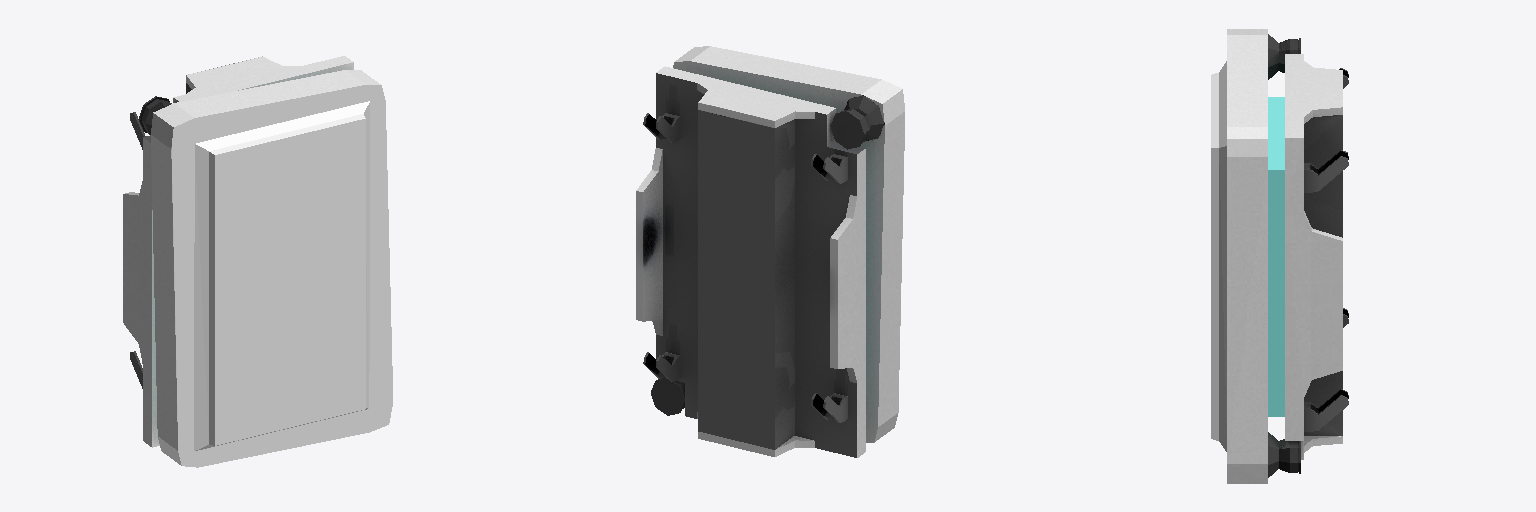
3 views of the same model, side by side, from view 1: azimuth 30°, elevation 25°; view 2: azimuth 150°, elevation 25°; view 3: azimuth 270°, elevation 25° (orthographic).
Visible parts, largest first — view 1: Body_Cube.009; view 2: Body_Cube.009; view 3: Body_Cube.009.
Boxes of the visible parts, box(x1,y1,x2,y2) form: Body_Cube.009: box(123, 56, 392, 467); Body_Cube.009: box(636, 46, 904, 457); Body_Cube.009: box(1211, 29, 1348, 483).
Size of the model in its own units: 0.5793 by 0.89 by 0.3123.
Materials: 1 (1 with a texture image).